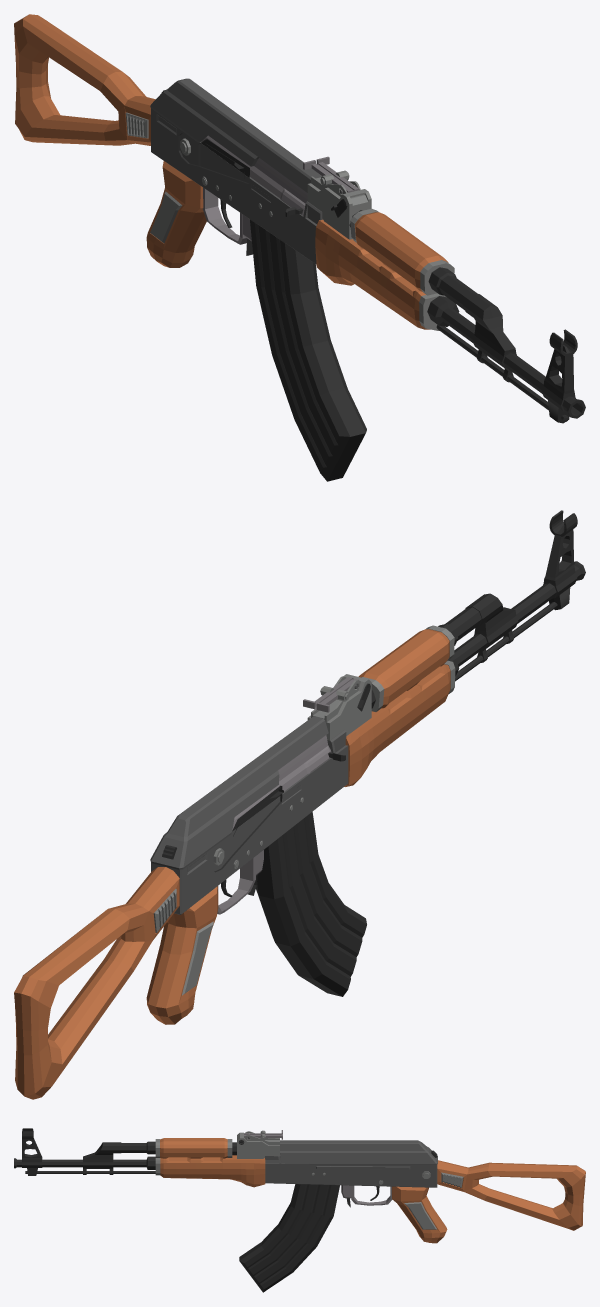
Rendered from blaster.fbx.
3 views of the same model, one above another, from view 1: azimuth 30°, elevation 25°; view 2: azimuth 150°, elevation 25°; view 3: azimuth 270°, elevation 25° (orthographic). The views are drawn at different scales.
Parts seen in each view (by area): view 1: Куб.001; view 2: Куб.001; view 3: Куб.001.
Boxes of the visible parts, <box> form: Куб.001: <box>14,14,585,481</box>; Куб.001: <box>14,510,585,1099</box>; Куб.001: <box>14,1128,585,1292</box>.
Size of the model in its own units: 0.0455 by 0.9176 by 0.2848.
